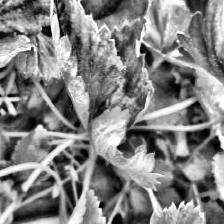Powdery Mildew Leaf: (50, 0, 126, 146), (92, 107, 167, 191), (40, 187, 109, 224)
